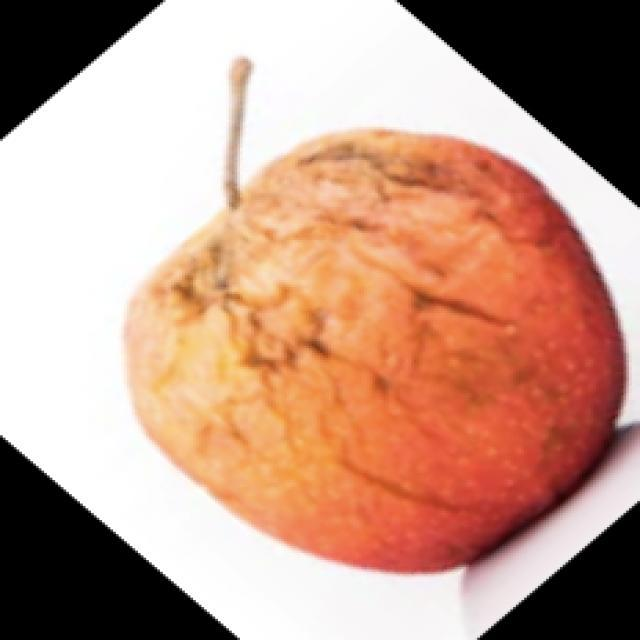Rotten: (128, 117, 615, 580)
